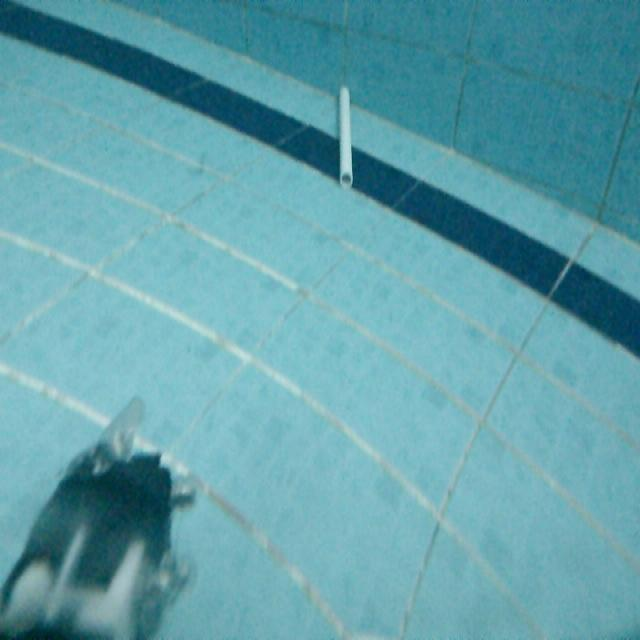Cube: (335, 82, 355, 190)
